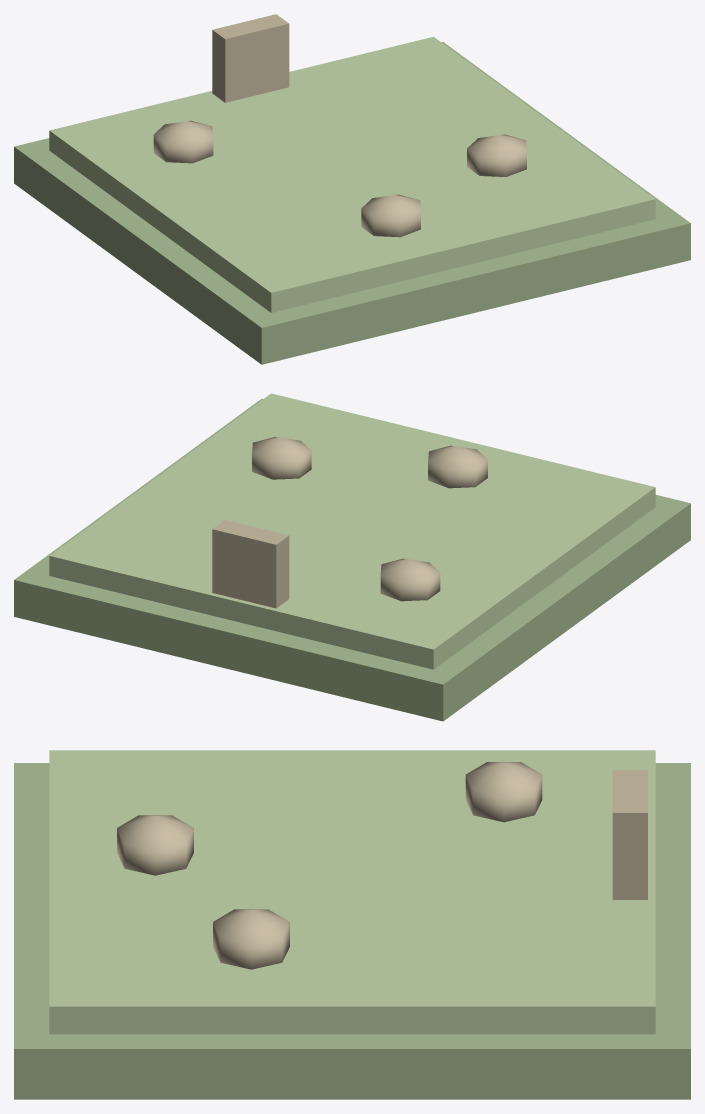
File: plot-locked.gltf
The picture shows the model from 3 angles, top to bottom: view 1: azimuth 30°, elevation 25°; view 2: azimuth 150°, elevation 25°; view 3: azimuth 270°, elevation 25°; orthographic projection. The views are drawn at different scales.
Parts seen in each view (by area): view 1: topsoil, earth-block, unlock-marker, stone-0, stone-2, stone-1; view 2: topsoil, earth-block, unlock-marker, stone-0, stone-2, stone-1; view 3: topsoil, earth-block, unlock-marker, stone-0, stone-2, stone-1.
Boxes of the visible parts, x1,y1,x2,y2 form: topsoil: (49, 36, 655, 312); earth-block: (14, 42, 690, 364); unlock-marker: (212, 14, 289, 102); stone-0: (153, 120, 213, 163); stone-2: (361, 194, 420, 237); stone-1: (467, 134, 526, 176); topsoil: (49, 393, 655, 669); earth-block: (14, 398, 690, 721); unlock-marker: (212, 519, 289, 608); stone-0: (380, 558, 440, 601); stone-2: (428, 445, 487, 488); stone-1: (252, 437, 311, 479); topsoil: (49, 750, 655, 1034); earth-block: (14, 763, 690, 1099); unlock-marker: (612, 770, 647, 899); stone-0: (465, 762, 542, 822); stone-2: (117, 815, 193, 875); stone-1: (213, 909, 289, 969).
Size of the model in its own units: 1.34 by 0.36 by 1.34.
